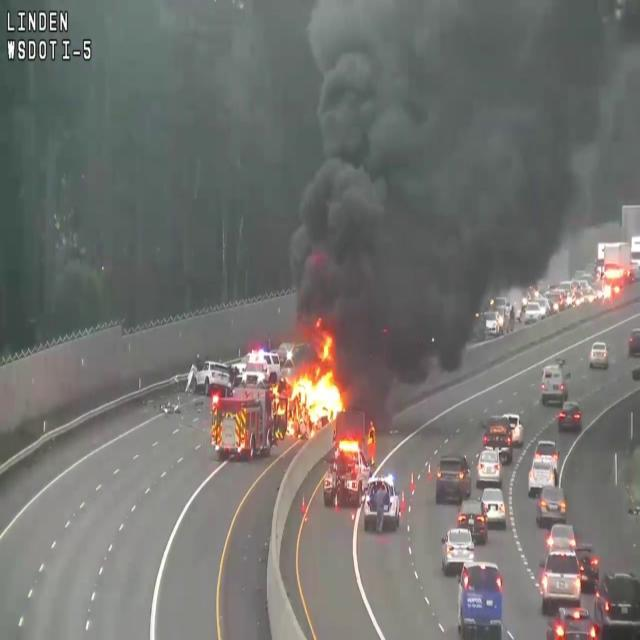Fire: (280, 351, 347, 428)
Smoke: (273, 0, 639, 334)
